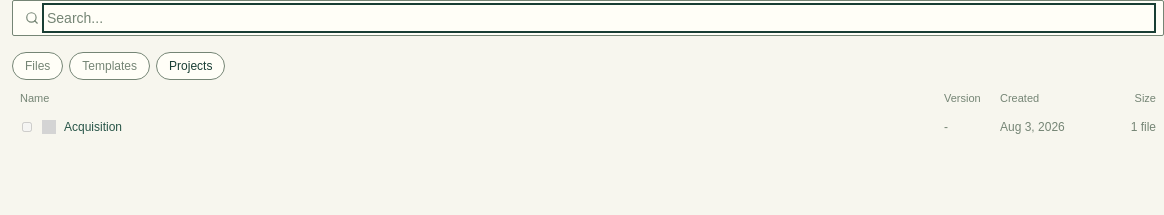
it: FileDirectory › renders folders inside projects on the Projects tab
Click the text "Acquisition": (93, 126) x1=64 y1=120 x2=122 y2=134
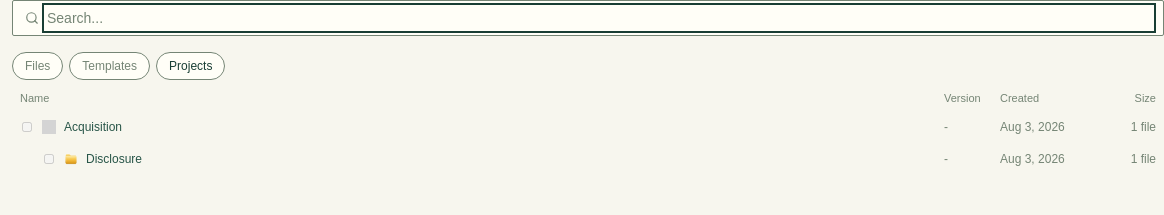
expect the text "Disclosure letter.docx" is not shown: met
expect the text "Disclosure" is shown: met
Click the text "Disclosure": (114, 158) x1=86 y1=152 x2=142 y2=166
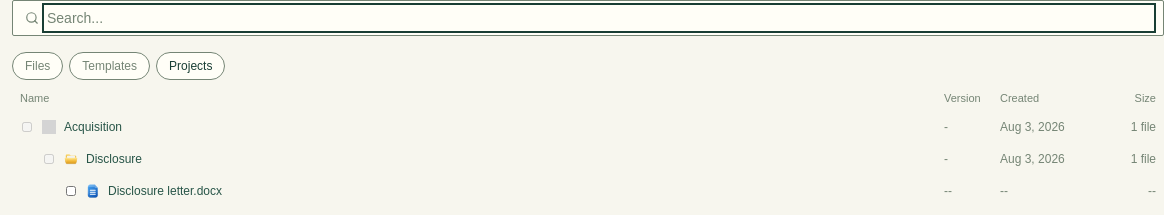
expect the text "Disclosure letter.docx" is shown: met, box x1=108 y1=184 x2=222 y2=198
